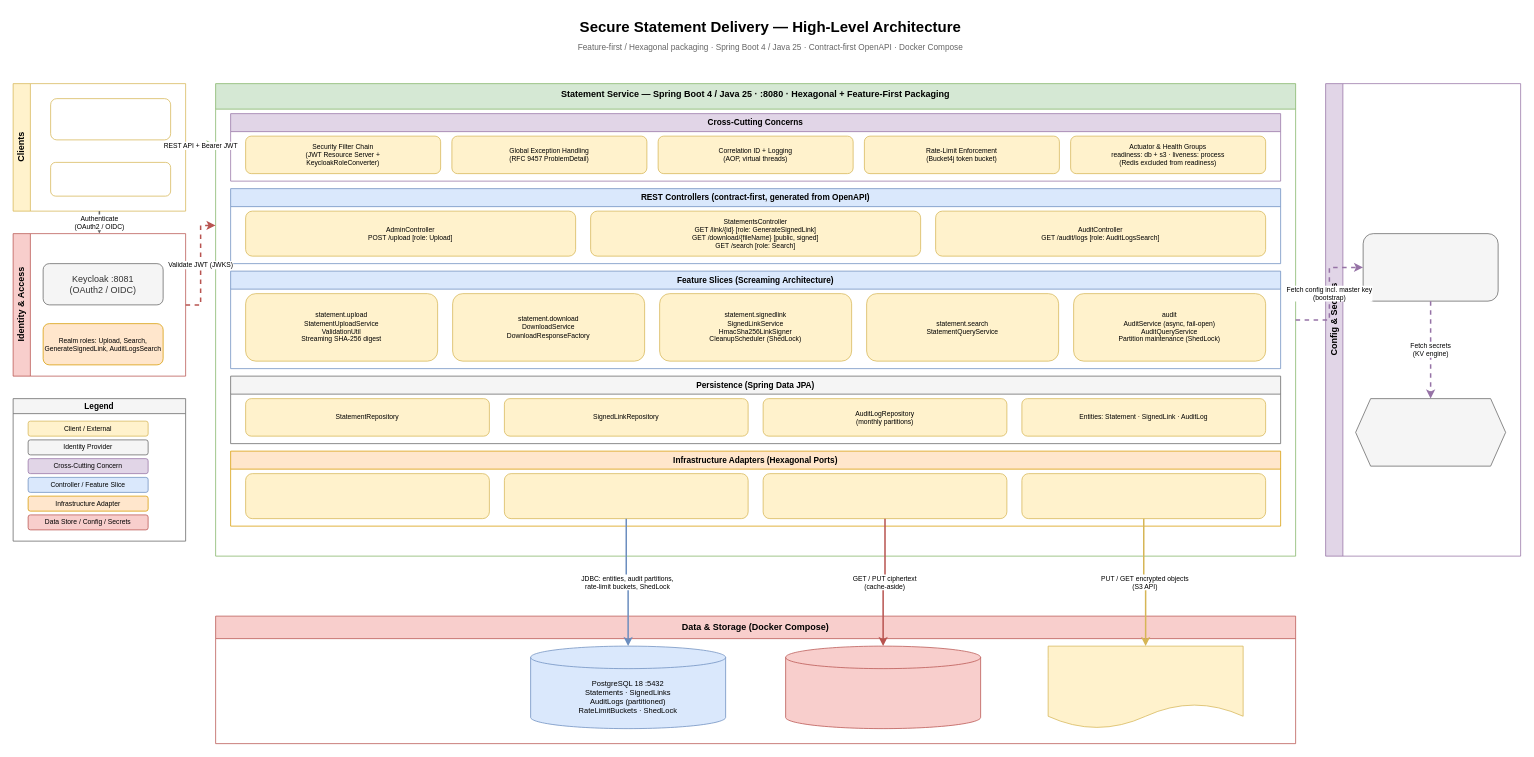
Image size: 1534x757. Some labels were removed from this diagram. The shapes that lost their labels are listed below. From the top down, each one's centre as x and y in pixels, then its label:
At pixel 110 119: "Web Browser / Mobile App".
At pixel 110 179: "API Client (Bruno / CI)".
At pixel 1430 267: "Config Server :8888 (Spring Cloud Config)".
At pixel 1430 432: "HashiCorp Vault :8200 (KV secrets engine)".
At pixel 367 496: "Crypto Adapter AesGcmFileCipher (envelope encryption) MasterKeyProvider".
At pixel 626 496: "Rate-Limit Adapter Bucket4jSignedLinkRateLimiter (Postgres token bucket)".
At pixel 884 496: "Cache Adapter CachingEncryptedFileFetcher (Redis ciphertext cache)".
At pixel 1143 496: "Storage Adapter S3StatementFileStore (Floci / S3-compatible)".
At pixel 883 687: "Redis 8 :6379 Ciphertext cache (TTL = signed-link expiry)".
At pixel 1145 687: "Floci (S3-compatible) :4566 Encrypted PDF objects".
